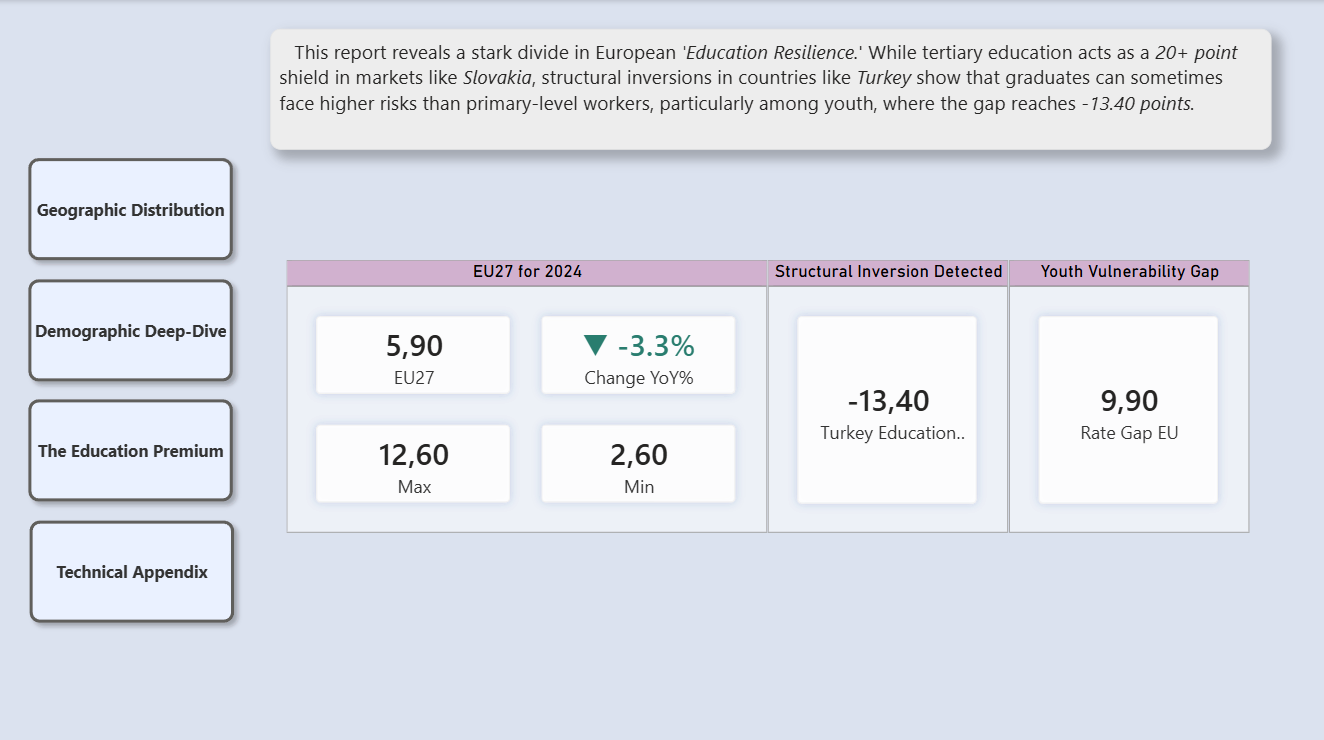

The page's visual inventory and layout, read from the dashboard file:
{"tool":"powerbi","page":{"name":"Home page","canvas":[1280,720],"ordinal":0},"visuals":[{"type":"cardVisual","fields":{"Data":["_Measures.AVG_EU27","_Measures.YoY% Display","_Measures.MAX_Rate","_Measures.MIN_Rate"]},"box":[278,250.8,463.8,263.5],"z":0},{"type":"actionButton","title":"Geographic Distribution","box":[19.2,144.1,215.4,116.6],"z":1000,"group":"g1"},{"type":"cardVisual","title":"Youth Vulnerability Gap","fields":{"Data":["_Measures.Difference_rate_age"]},"box":[974.3,251.1,231.9,263.5],"z":1000},{"type":"cardVisual","title":"Structural Inversion Detected","fields":{"Data":["_Measures.Difference_Points-rate_Turkey_young"]},"box":[742.4,251.1,231.9,263.5],"z":2000},{"type":"actionButton","title":"Geographic Distribution","box":[19.2,260.7,215.4,116.6],"z":2000,"group":"g1"},{"type":"textbox","box":[262.1,27.4,966,116.6],"z":3000},{"type":"actionButton","title":"Geographic Distribution","box":[19.2,377.4,215.4,116.6],"z":3000,"group":"g1"},{"type":"group","id":"g1","title":"Group 1","box":[19.2,144.1,216.8,466.6],"z":4000},{"type":"actionButton","title":"Geographic Distribution","box":[20.6,494,215.4,116.6],"z":4000,"group":"g1"}]}

Visuals, with their boxes in screenshot pixels (x1, y1, x2, y2), scaled from the page's 1280x720 canvas onto the 1324x740 screenshot:
cardVisual - _Measures.AVG_EU27 x _Measures.YoY% Display: [x1=288, y1=258, x2=767, y2=529]
"Geographic Distribution" actionButton: [x1=20, y1=148, x2=243, y2=268]
"Youth Vulnerability Gap" cardVisual: [x1=1008, y1=258, x2=1248, y2=529]
"Structural Inversion Detected" cardVisual: [x1=768, y1=258, x2=1008, y2=529]
"Geographic Distribution" actionButton: [x1=20, y1=268, x2=243, y2=388]
textbox: [x1=271, y1=28, x2=1270, y2=148]
"Geographic Distribution" actionButton: [x1=20, y1=388, x2=243, y2=508]
"Group 1" group: [x1=20, y1=148, x2=244, y2=628]
"Geographic Distribution" actionButton: [x1=21, y1=508, x2=244, y2=628]
